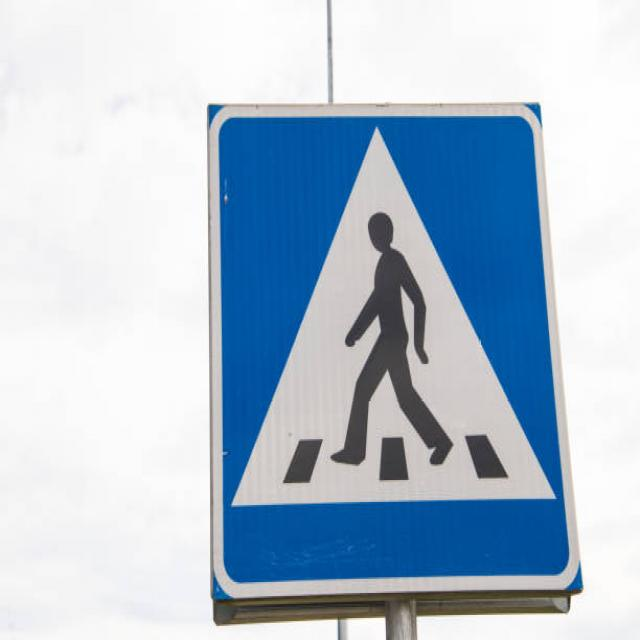crosswalk: (192, 82, 584, 611)
